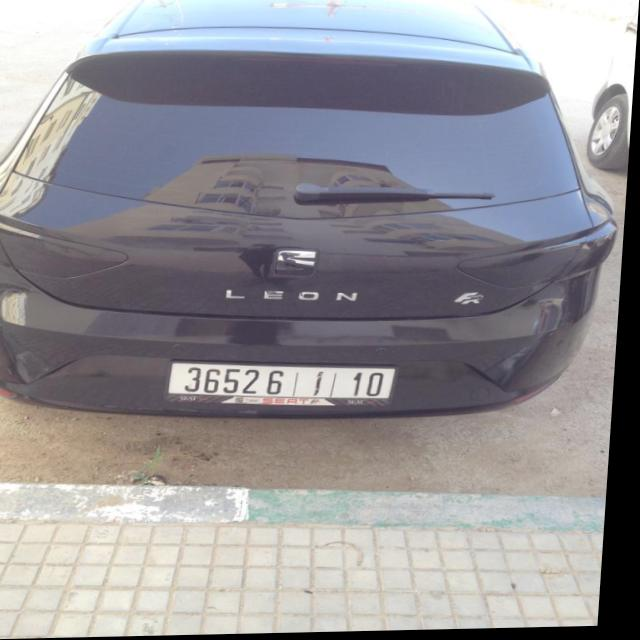License-Plate: (174, 364, 401, 400)
